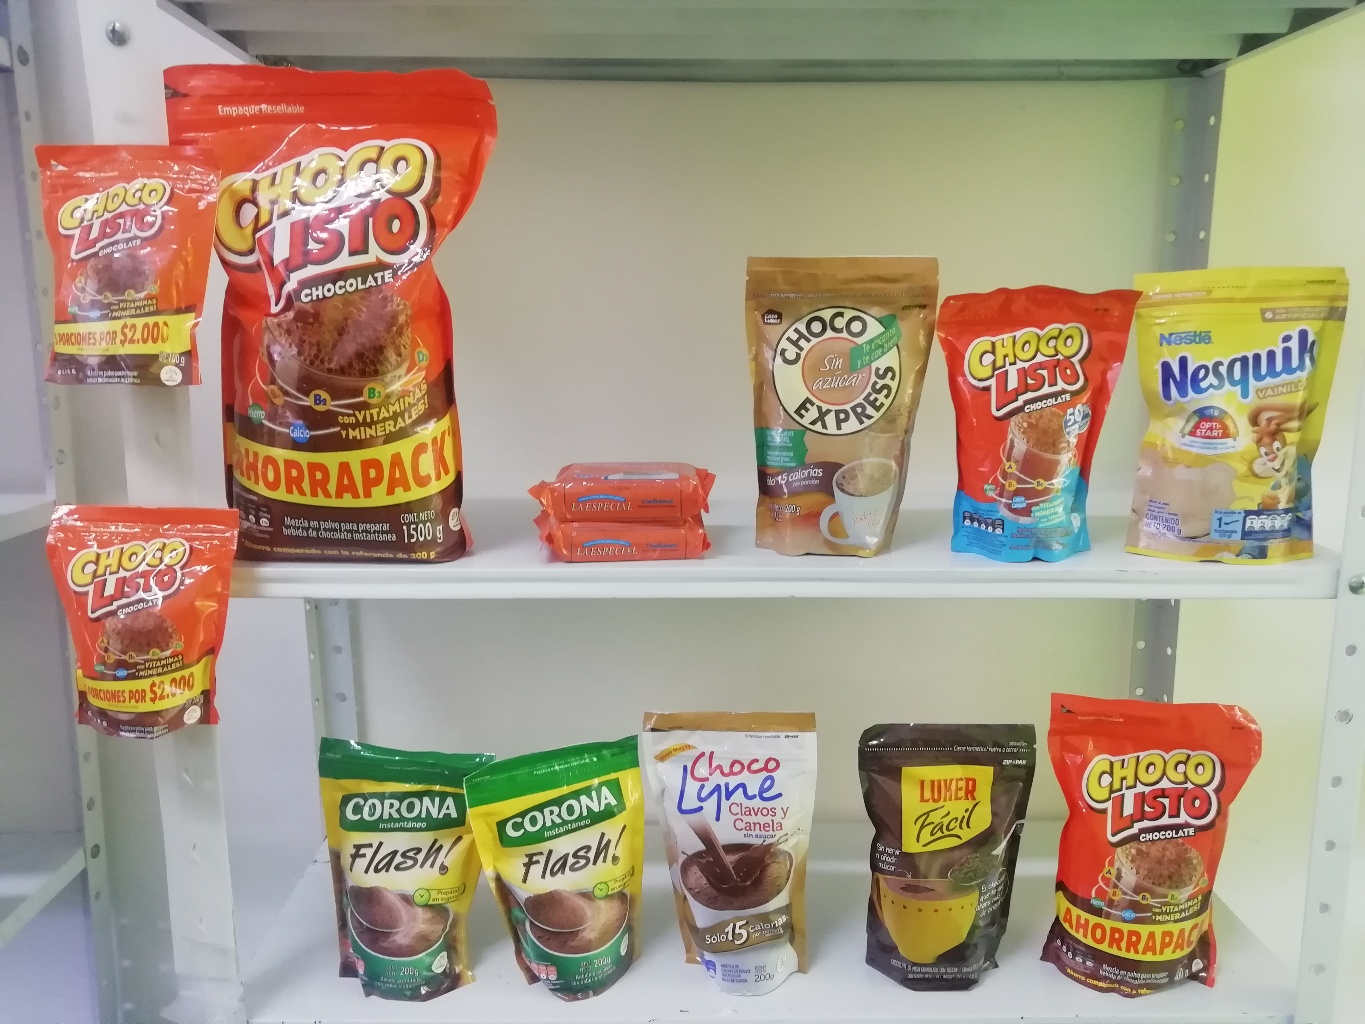COL0170103DYP1,500: (163, 53, 509, 563)
COL0170103DYP10000: (42, 497, 247, 759)
COL0170103DYP40000: (1039, 682, 1271, 1002)
COL0170104DYP20000: (933, 284, 1151, 567)
COL0170306DYP20000: (1111, 245, 1362, 569)
